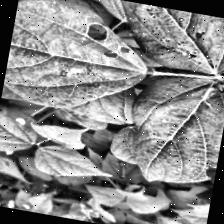ALS: (3, 9, 160, 113), (124, 68, 224, 195), (130, 3, 224, 76)
